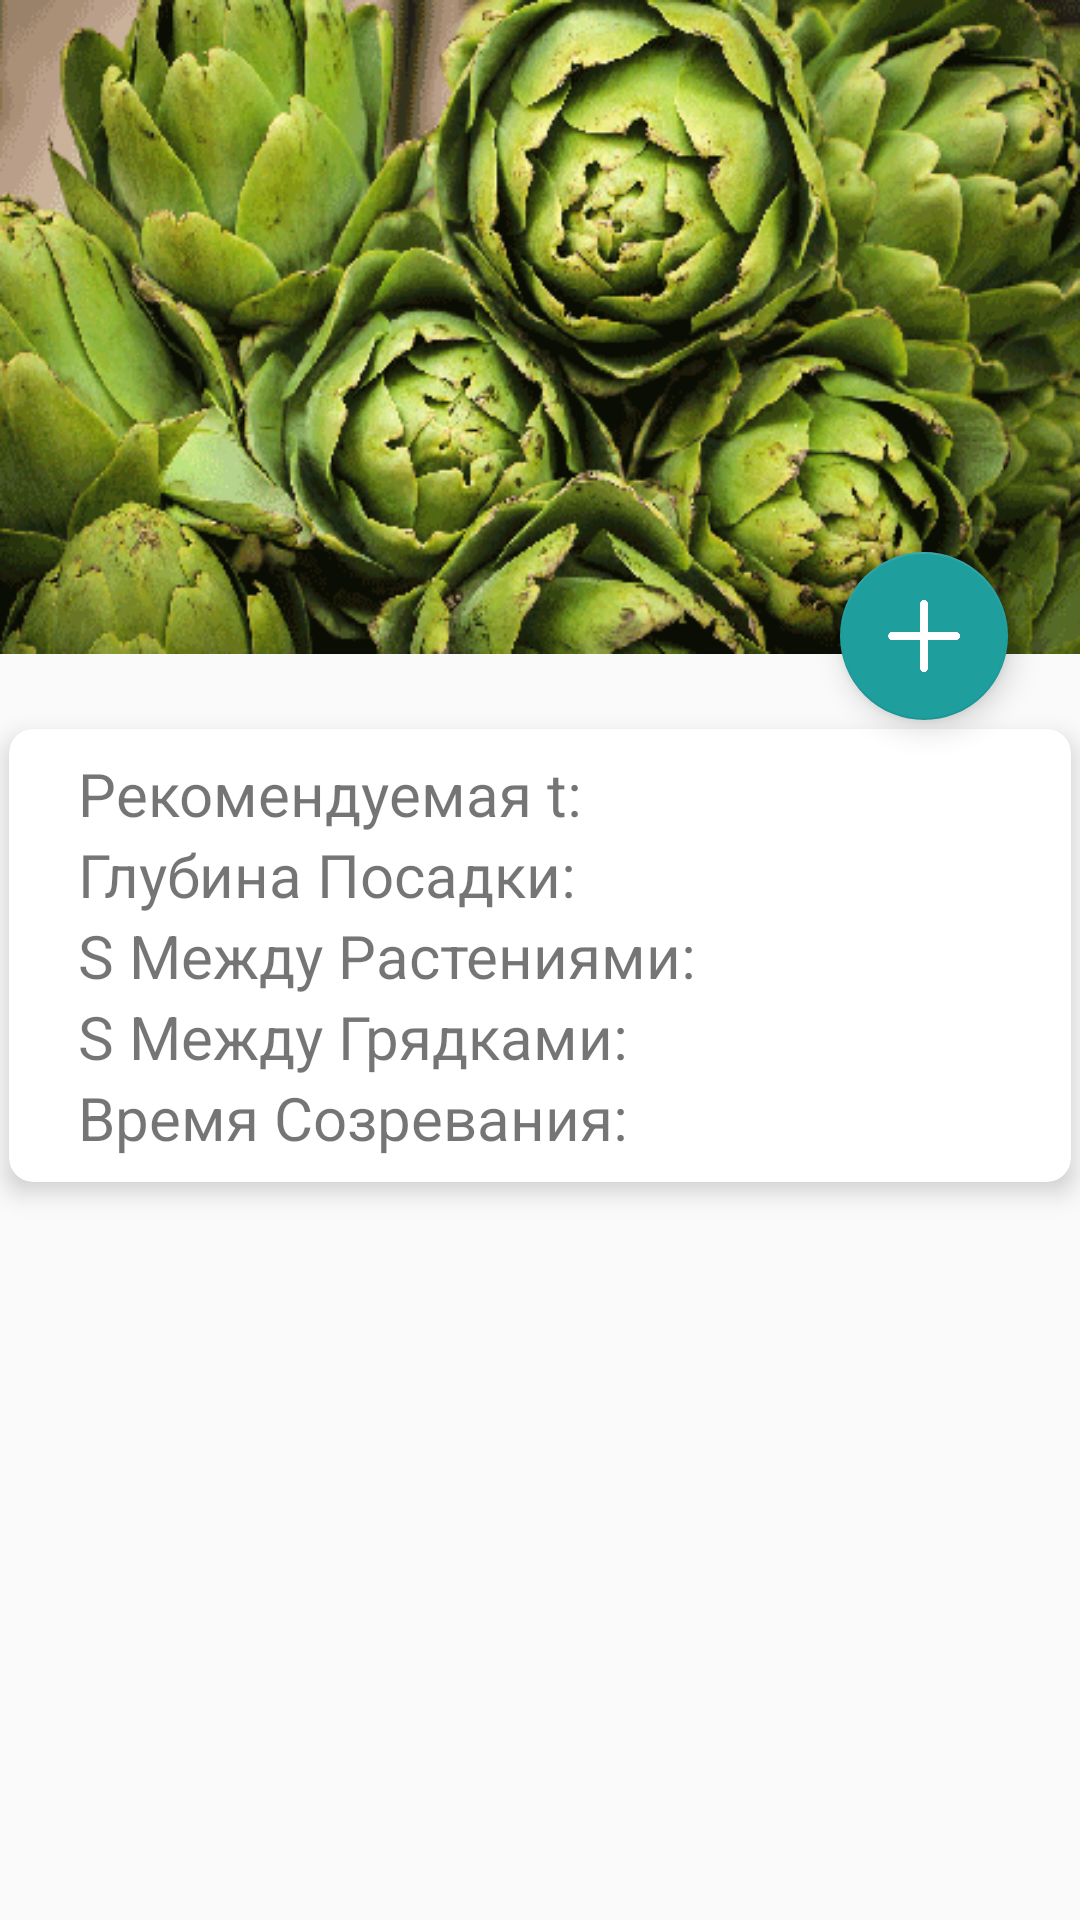

Point at icon controls on the screen. Image size 1080x1920, points as [x,y].
add to garden: [924,636]
